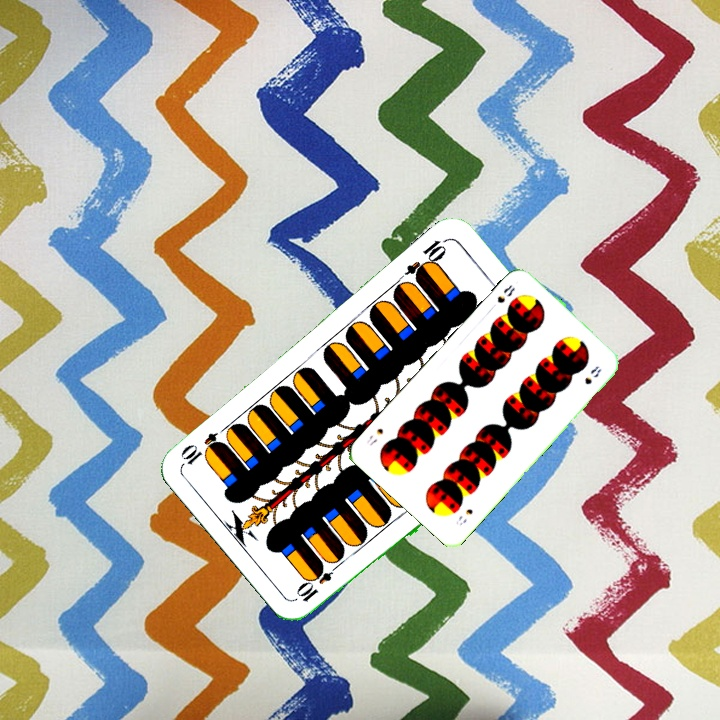E10: (401, 234, 451, 283), (293, 557, 344, 605)
S8: (493, 281, 518, 306), (452, 505, 475, 528)
